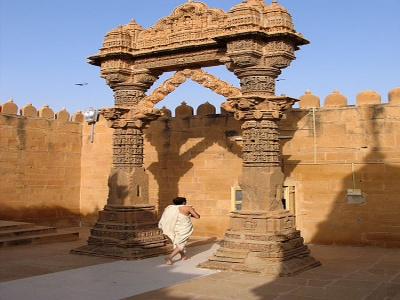torana: (88, 5, 303, 228)
